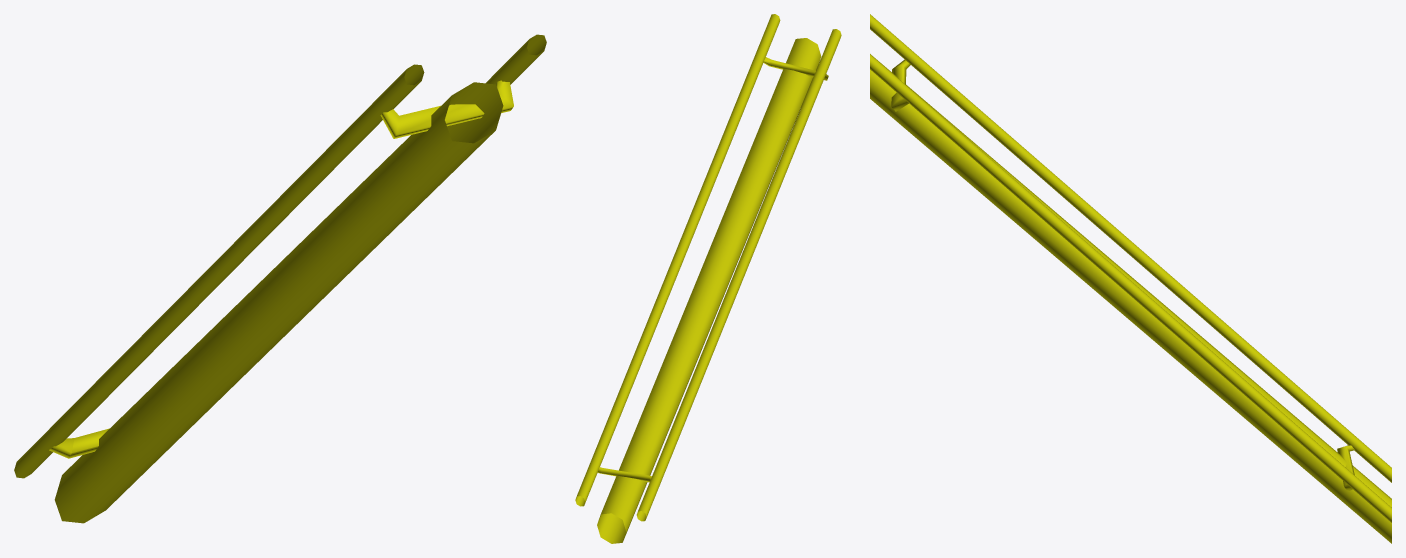
3 renders of one model, left to right at view 1: azimuth 30°, elevation 25°; view 2: azimuth 150°, elevation 25°; view 3: azimuth 270°, elevation 25°, orthographic. The views are drawn at different scales.
Parts seen in each view (by area): view 1: Mesh; view 2: Mesh; view 3: Mesh.
Boxes of the visible parts, x1,y1,x2,y2 form: Mesh: (14, 34, 546, 523); Mesh: (575, 14, 841, 543); Mesh: (870, 14, 1391, 543).
Size of the model in its own units: 66.12 by 336 by 313.
